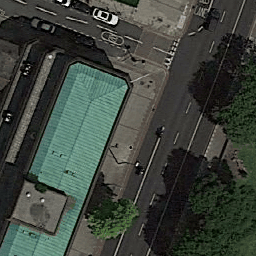car: (91, 6, 120, 27), (205, 9, 220, 34), (70, 1, 91, 15), (50, 1, 72, 8)
